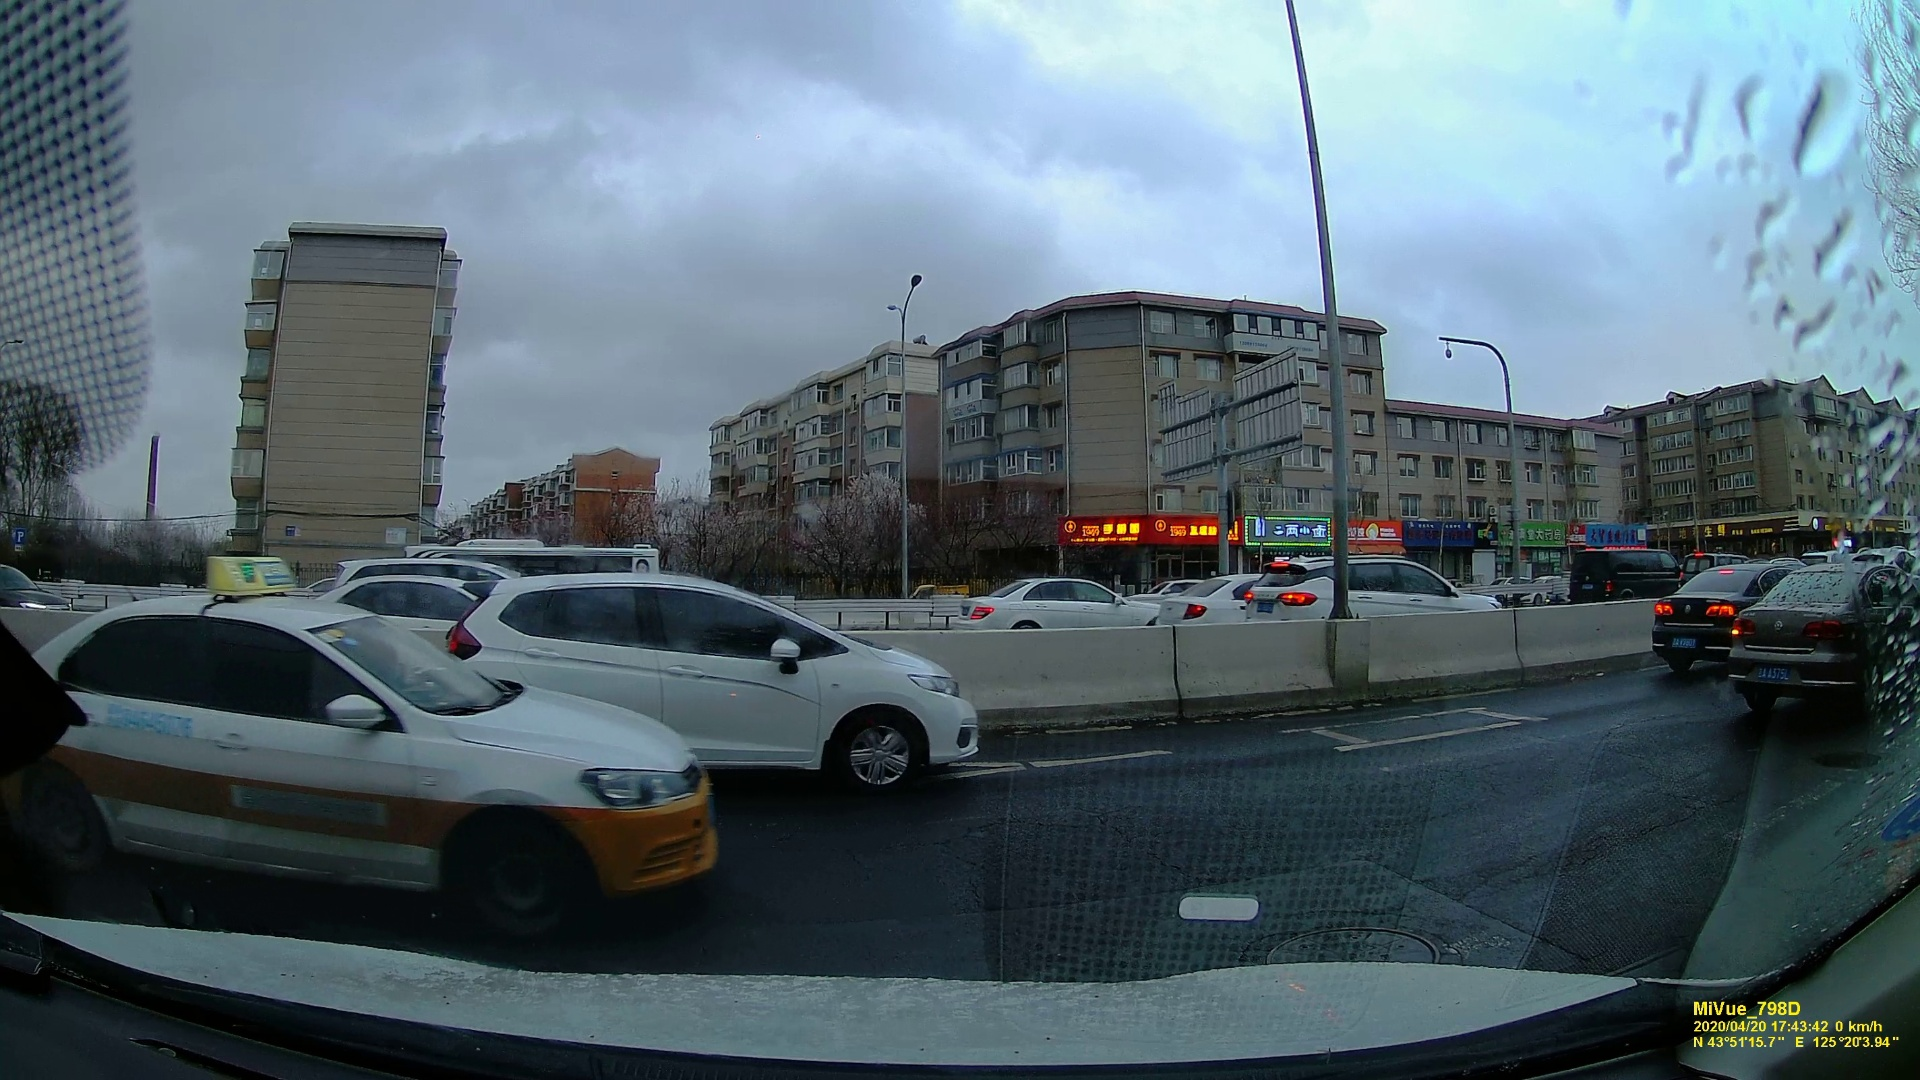minibus: (1571, 545, 1655, 603)
traffic_sign: (206, 550, 295, 601)
vehicle: (3, 604, 707, 902), (471, 574, 975, 785), (1735, 566, 1920, 717), (1246, 559, 1484, 628), (1652, 563, 1758, 674), (957, 575, 1154, 630), (1163, 574, 1240, 626)
